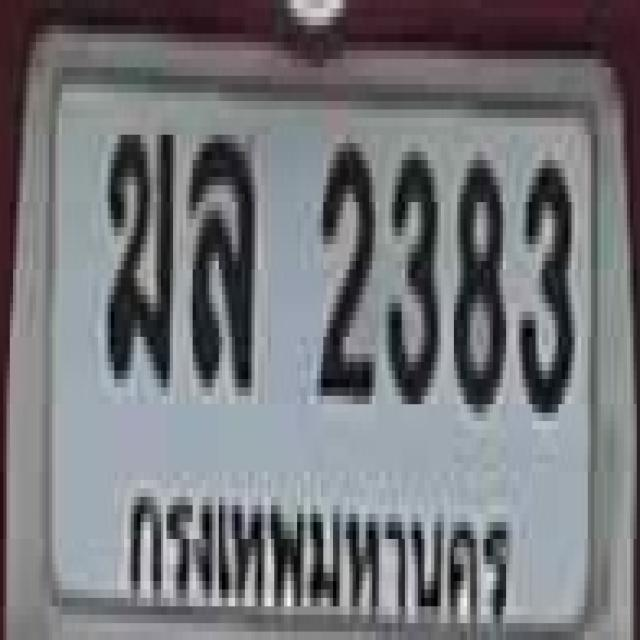2: (315, 135, 371, 396)
3: (516, 152, 571, 404), (384, 143, 436, 396)
8: (450, 152, 502, 404)
A06: (103, 122, 171, 375)
A36: (186, 126, 252, 379)
BKK: (120, 471, 518, 640)
